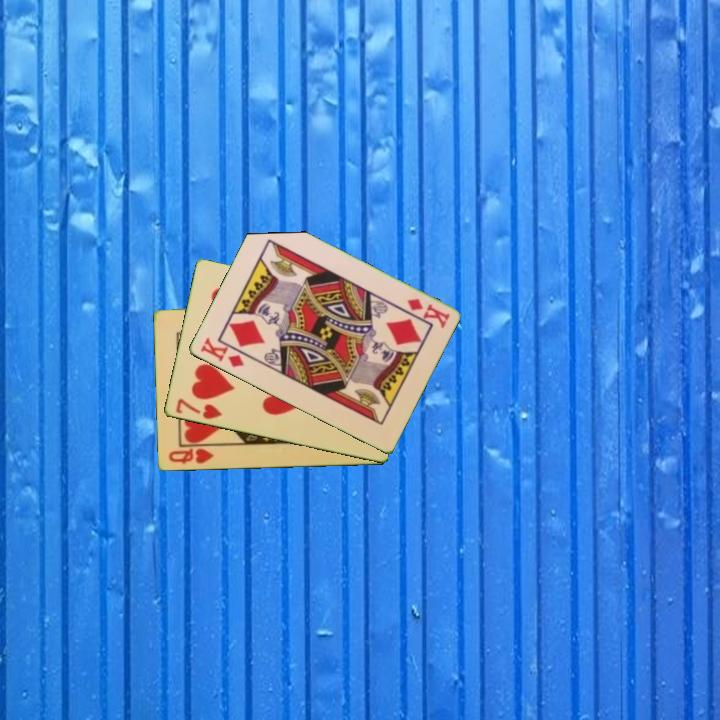7h: (172, 395, 225, 423)
Kd: (196, 333, 246, 371), (403, 295, 452, 331)
Qh: (165, 445, 216, 467)
